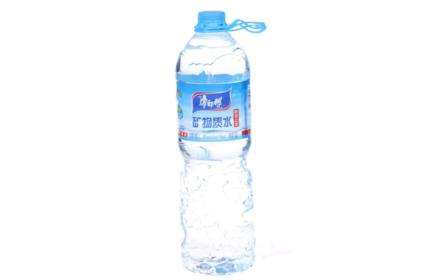amwater: (159, 5, 275, 273)
